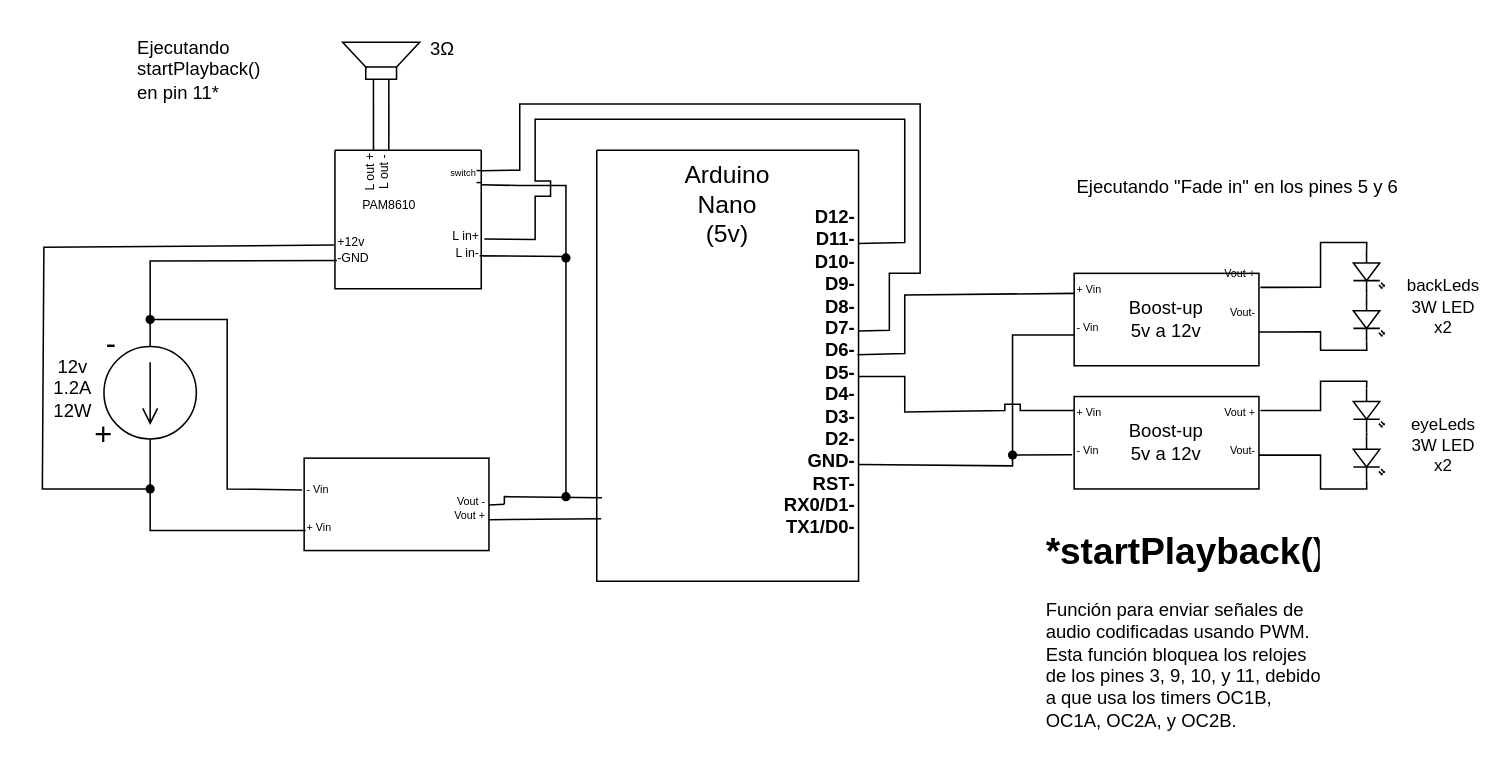
Some shapes in this 1506 by 781 pixel diagram are drawn without their labels. The shapes that lost their labels are listed below. From the top down, each one's box as (x1, y1, x2, y2) in pixels, then its label:
(595, 149, 859, 581): -D13 -3V3 -REF -A0 -A1 -A2 -A3 -A4 -A5 -A6 -A7 5V -RST -GND -VIN
(303, 457, 489, 551): Boost-down 12v a 5v
